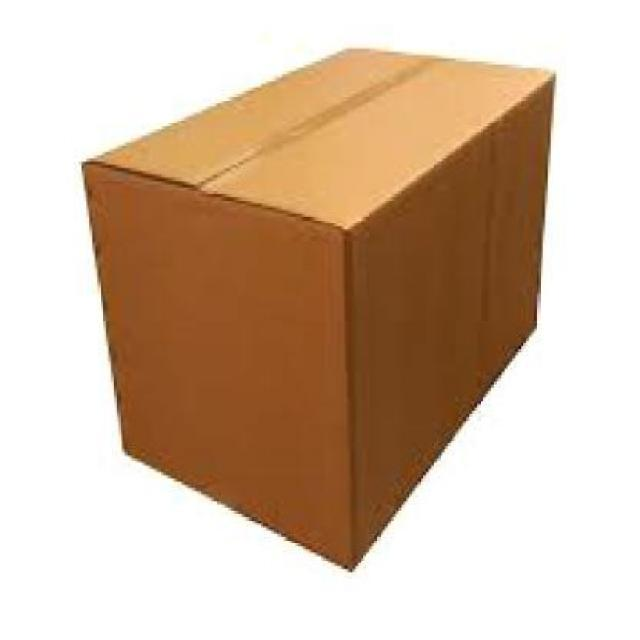-: (79, 46, 558, 566)
